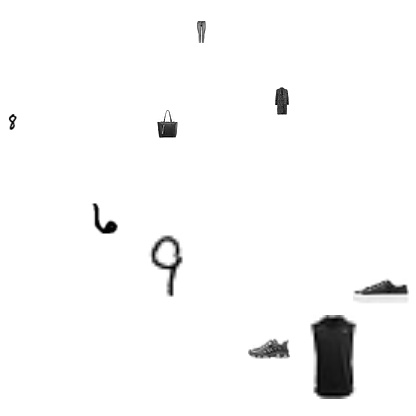1: (32, 302, 60, 330)
2: (283, 349, 297, 363)
9: (90, 193, 174, 277)
Bag: (150, 113, 206, 169), (194, 76, 236, 118), (335, 380, 349, 394)
Dress: (276, 129, 304, 157), (108, 81, 130, 103)
T-shirt/top: (35, 66, 91, 122)
Trouser: (335, 279, 377, 321)
